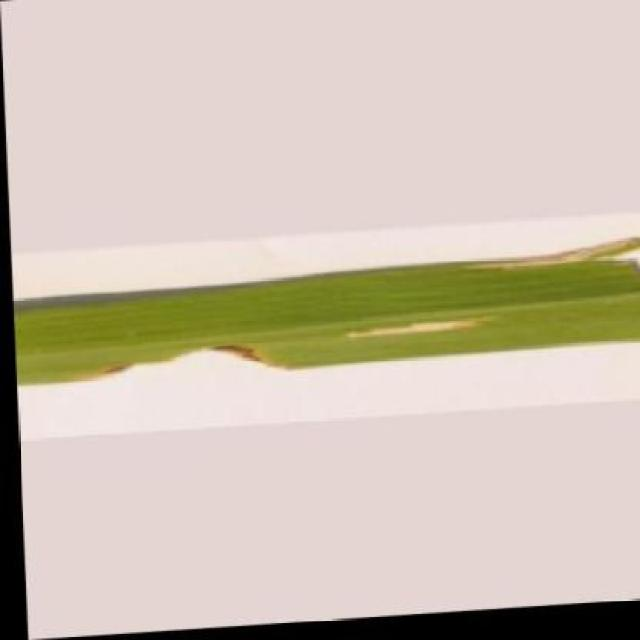Brown_Spot: (9, 240, 640, 391)
